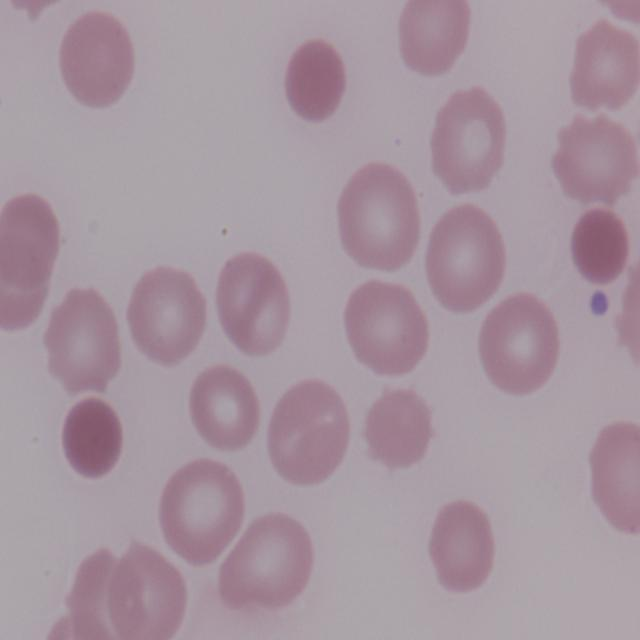RBC: (259, 375, 353, 490), (332, 160, 422, 278), (155, 458, 246, 569), (425, 196, 510, 314), (219, 510, 314, 614), (344, 276, 434, 385), (429, 86, 512, 202), (52, 8, 138, 118), (44, 282, 125, 396), (479, 290, 564, 398), (127, 260, 210, 368), (212, 254, 294, 360), (547, 113, 636, 209), (0, 188, 60, 318), (108, 545, 190, 640), (426, 499, 500, 599), (187, 362, 264, 458), (566, 18, 640, 116), (394, 0, 474, 84), (361, 384, 434, 474), (591, 416, 640, 537), (590, 0, 640, 28)
Spherocyte: (278, 36, 346, 132), (56, 398, 122, 486), (570, 205, 632, 286)
